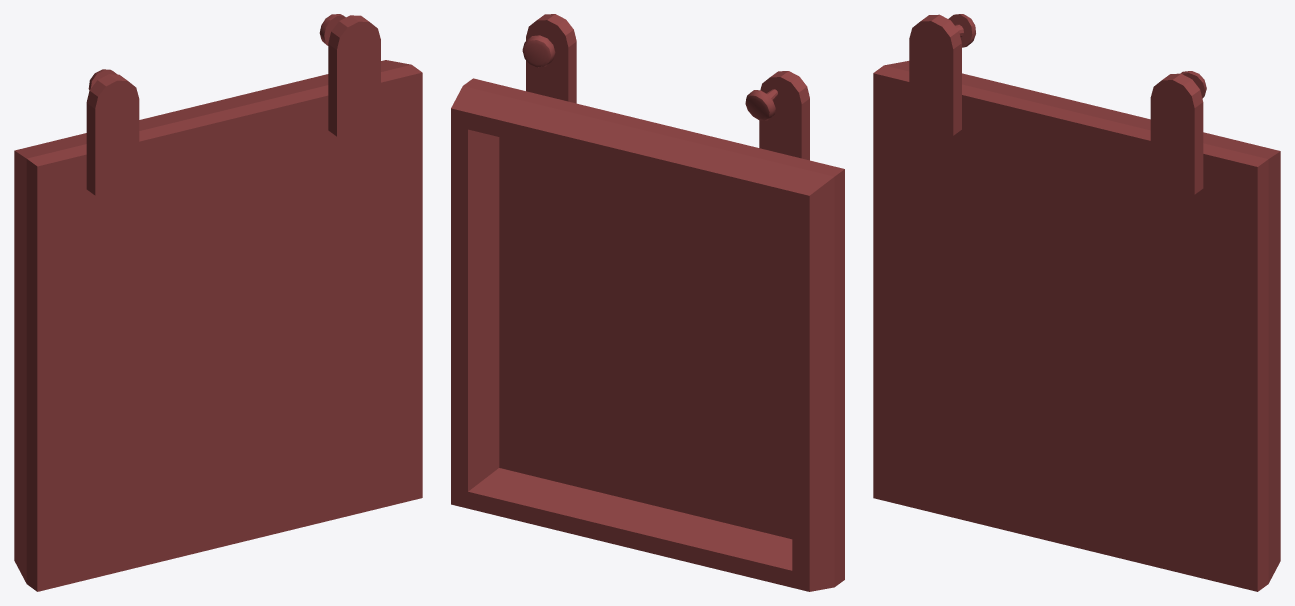
File: FrameT.fbx
3 views of the same model, side by side, from view 1: azimuth 30°, elevation 25°; view 2: azimuth 150°, elevation 25°; view 3: azimuth 330°, elevation 25° (orthographic). The views are drawn at different scales.
Visible parts, largest first — view 1: FrameT; view 2: FrameT; view 3: FrameT.
Boxes of the visible parts, left/top/right/bottom form: FrameT: left=14, top=14, right=422, bottom=591; FrameT: left=451, top=14, right=844, bottom=591; FrameT: left=873, top=14, right=1280, bottom=591.
Bounding box in the file's own units: 2.29 × 2.86 × 0.4192.
